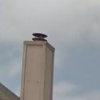Chimney: (13, 23, 63, 100)
